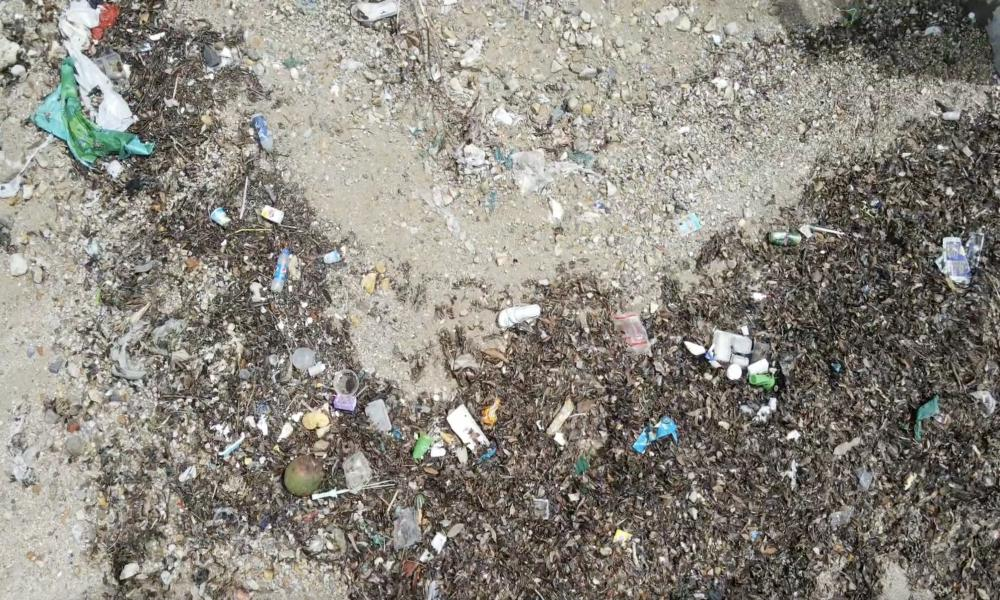carton: (258, 204, 288, 237), (208, 206, 234, 234), (334, 392, 361, 410)
plastic bag: (0, 54, 153, 179), (58, 46, 138, 130), (52, 0, 120, 50), (507, 142, 558, 204), (382, 494, 425, 552)
plastic bottle: (242, 105, 282, 156), (268, 244, 293, 300)
plastic container: (708, 327, 754, 373), (340, 446, 376, 496), (295, 332, 324, 374), (364, 399, 396, 436), (329, 368, 360, 398)
